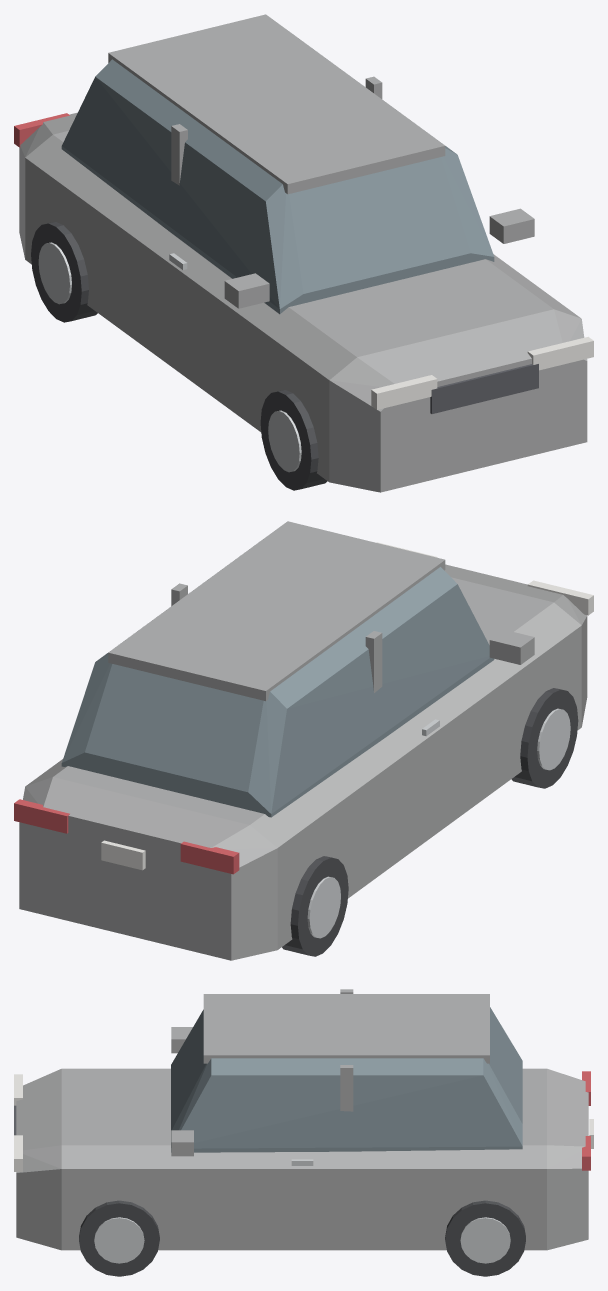
The model's file is purosangue-2026.glb.
The picture shows the model from 3 angles, top to bottom: view 1: azimuth 30°, elevation 25°; view 2: azimuth 150°, elevation 25°; view 3: azimuth 270°, elevation 25°; orthographic projection. The views are drawn at different scales.
Parts seen in each view (by area): view 1: body, cabin_glass, roof, wheel_-1_1_tire, wheel_-1_-1_tire, grille, wheel_-1_-1_rim, wheel_-1_1_rim, headlight_-1, headlight_1, mirror_-1, mirror_1 (+1 smaller); view 2: body, cabin_glass, roof, wheel_-1_1_tire, wheel_-1_-1_tire, wheel_-1_1_rim, wheel_-1_-1_rim, taillight_-1, mirror_-1, taillight_1, rear_plate, pillar_-1 (+1 smaller); view 3: body, cabin_glass, roof, wheel_1_-1_tire, wheel_1_1_tire, wheel_1_1_rim, wheel_1_-1_rim, pillar_1, mirror_1, mirror_-1.
Part boxes in pixels (x1,y1,x2,y2): body: (19,112,587,492); cabin_glass: (61,59,494,314); roof: (108,14,445,194); wheel_-1_1_tire: (260,390,327,490); wheel_-1_-1_tire: (31,221,97,322); grille: (430,364,538,413); wheel_-1_-1_rim: (38,242,71,304); wheel_-1_1_rim: (268,410,301,472); headlight_-1: (371,375,437,409); headlight_1: (527,336,593,370); mirror_-1: (224,273,269,308); mirror_1: (489,208,534,243); body: (19,564,587,960); cabin_glass: (61,567,494,817); roof: (108,521,445,701); wheel_-1_1_tire: (511,688,578,788); wheel_-1_-1_tire: (282,856,348,956); wheel_-1_1_rim: (537,708,570,770); wheel_-1_-1_rim: (307,876,340,938); taillight_-1: (180,841,239,874); mirror_-1: (489,629,534,664); taillight_1: (14,799,69,833); rear_plate: (101,840,145,870); pillar_-1: (365,631,382,692); body: (16,1068,588,1250); cabin_glass: (171,1007,522,1152); roof: (203,994,489,1063); wheel_1_-1_tire: (445,1200,525,1276); wheel_1_1_tire: (79,1200,159,1276); wheel_1_1_rim: (94,1217,144,1263); wheel_1_-1_rim: (460,1217,510,1263); pillar_1: (340,1065,353,1111); mirror_1: (171,1130,193,1156); mirror_-1: (171,1027,192,1053).
Bounding box in the file's own units: 2.29 × 1.85 × 4.87.
